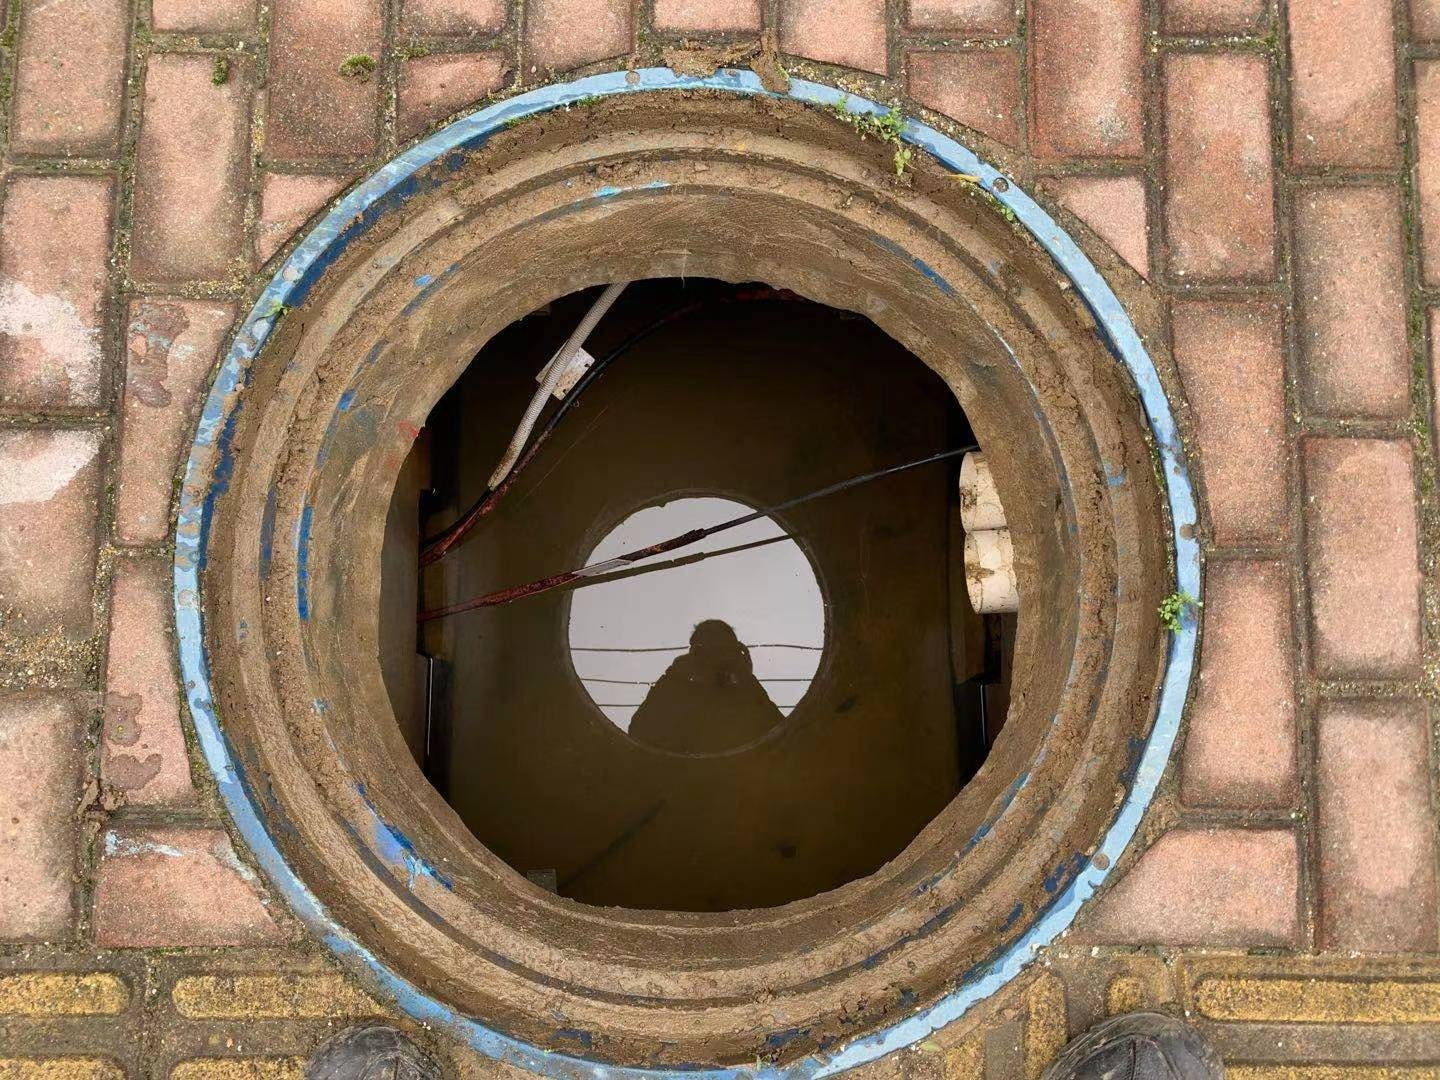lose: (173, 65, 1206, 1080)
